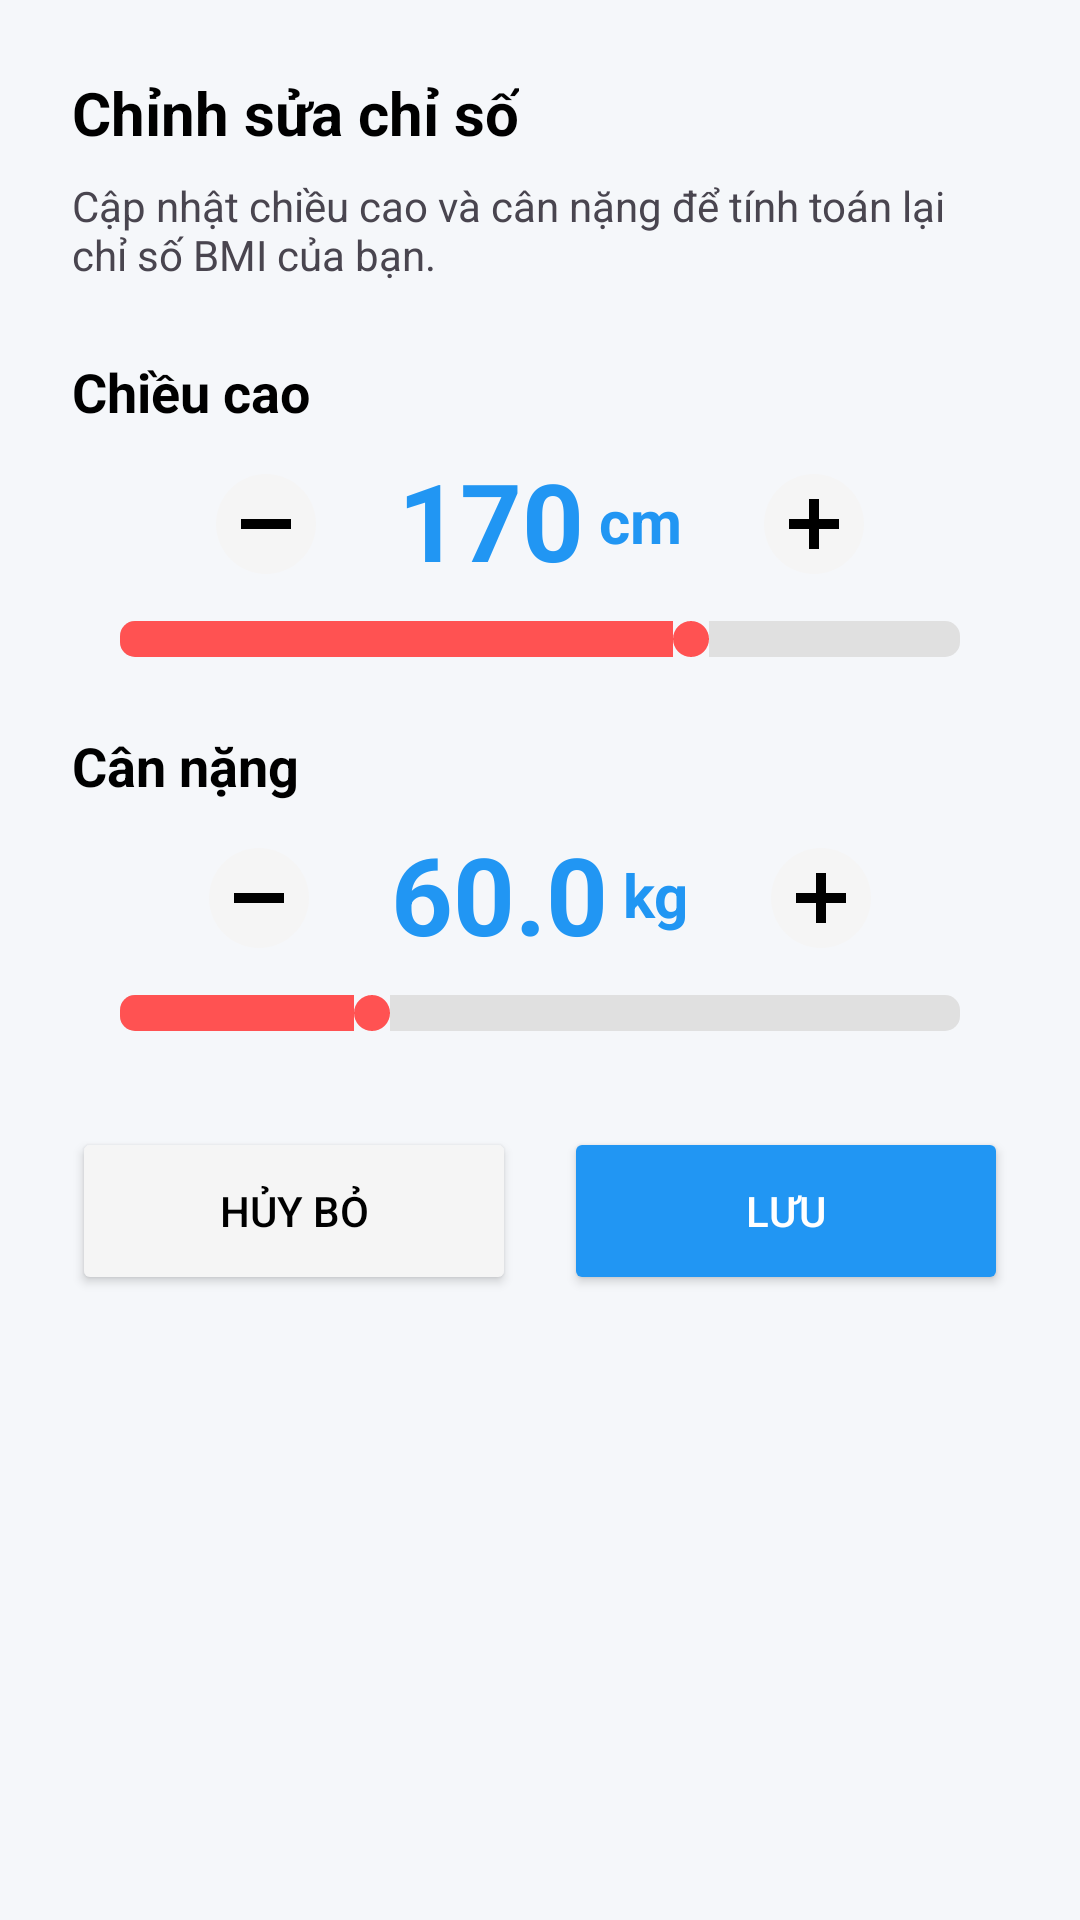

Icon click points for this 1080x1920 phone screenshot, format (x=x, y=y):
plus: (x=814, y=524), (x=821, y=898)
